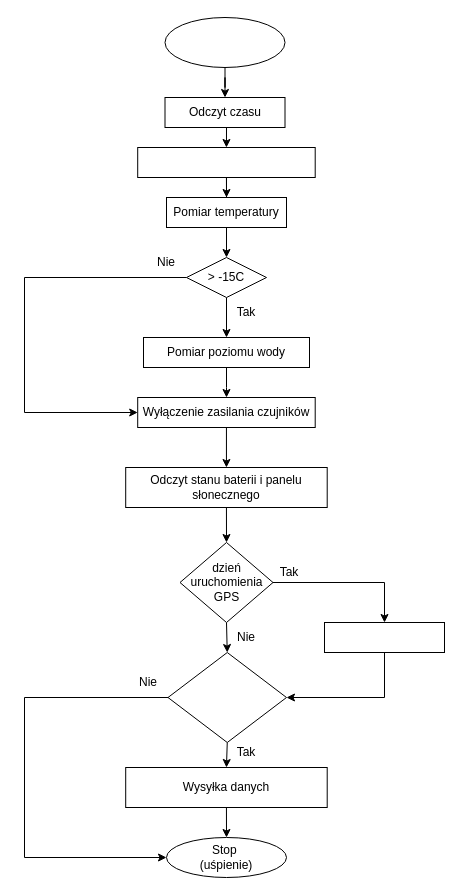
Some shapes in this 462 by 895 pixel diagram are drawn without their labels. Each missing label, with the box of its shape:
czy cykl wysyłki danych: (167, 652, 286, 742)
Odczyt GPS: (324, 622, 444, 652)
Start (wybudzenie): (164, 16, 285, 68)
Włączenie zasilania czujników: (137, 146, 315, 178)
